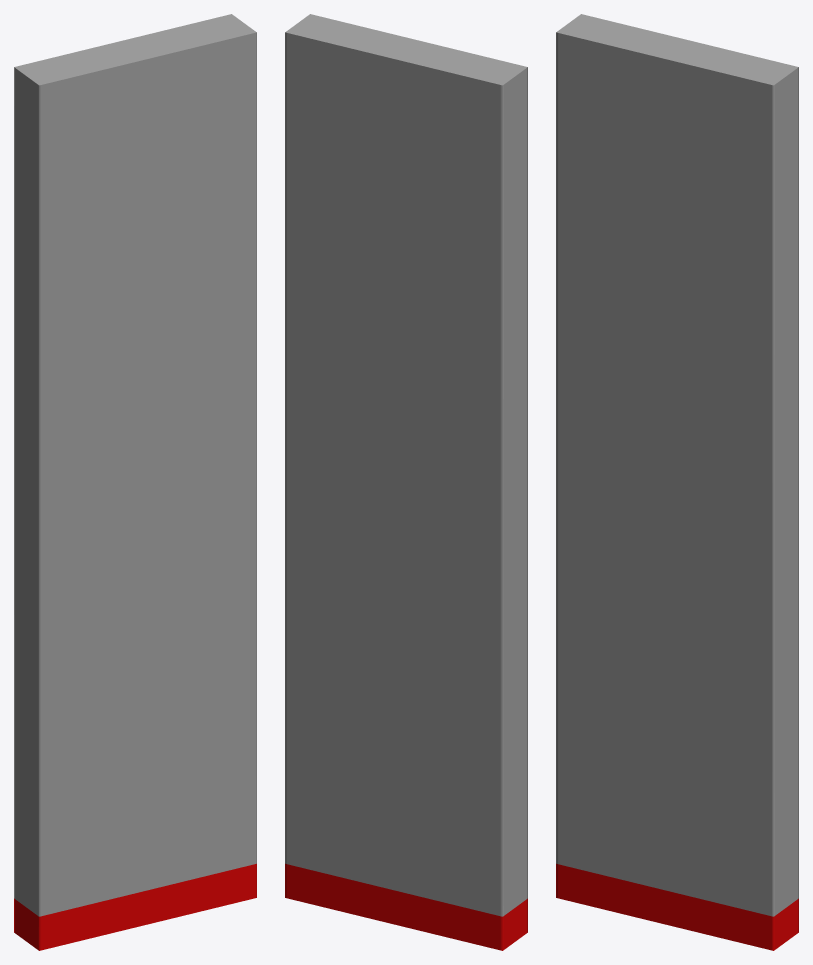
Rendered from Pillar_01_Snaps014.FBX.
The picture shows the model from 3 angles, left to right: view 1: azimuth 30°, elevation 25°; view 2: azimuth 150°, elevation 25°; view 3: azimuth 330°, elevation 25°; orthographic projection.
Visible parts, largest first — view 1: Pillar_01_LOD00; view 2: Pillar_01_LOD00; view 3: Pillar_01_LOD00.
Boxes of the visible parts, bbox=[...] form: Pillar_01_LOD00: bbox=[14, 14, 256, 950]; Pillar_01_LOD00: bbox=[285, 14, 527, 950]; Pillar_01_LOD00: bbox=[556, 14, 798, 950].
Size of what is drawn, in the model's own units: 100 by 380 by 20.
